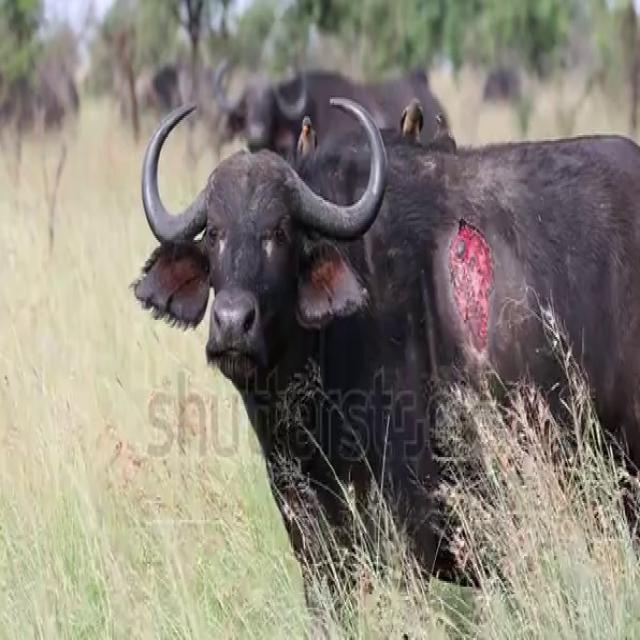normal_animals: (128, 88, 637, 624)
